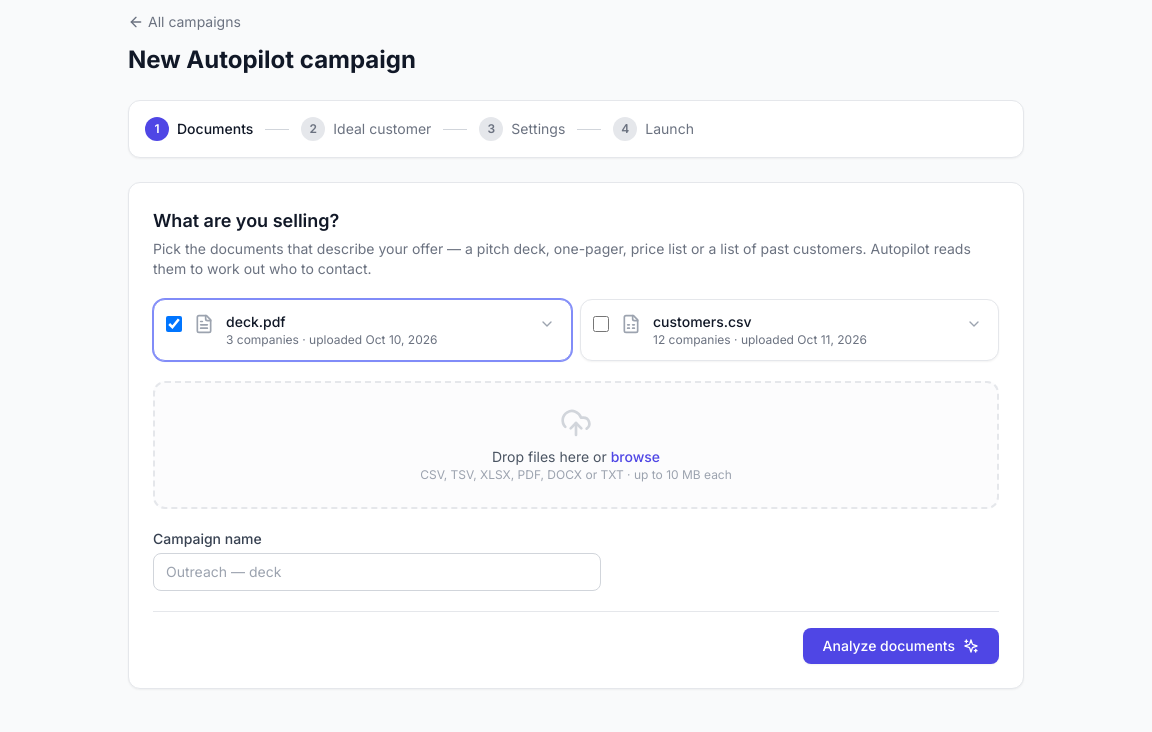
Scenario: CampaignNew wizard › preselects documents passed from Discovery and creates the campaign
Expected: the checkbox named "Use deck.pdf" is checked, [166,316,182,332]
Expected: the checkbox named "Use customers.csv" is not checked, [593,316,609,332]
Click the button "Analyze documents" at (901, 646), box [803,628,999,664]
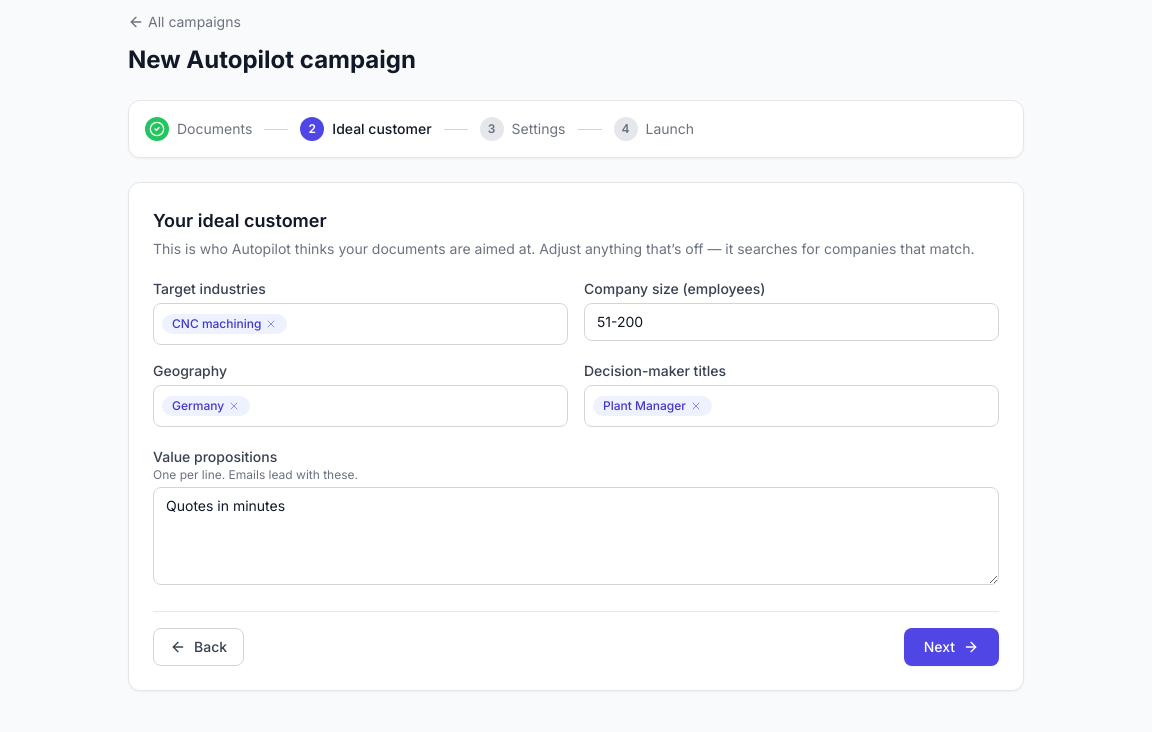
Expected: the heading "Your ideal customer" is shown, [153,210,327,231]
